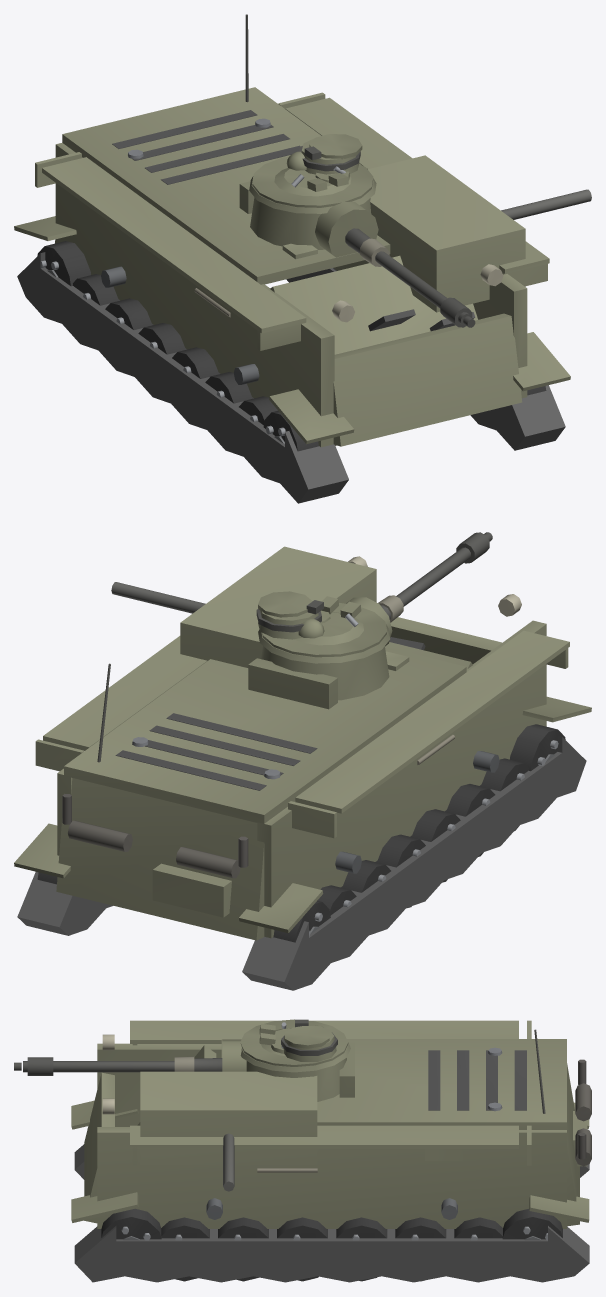
File: m3lee.glb
The picture shows the model from 3 angles, top to bottom: view 1: azimuth 30°, elevation 25°; view 2: azimuth 150°, elevation 25°; view 3: azimuth 270°, elevation 25°; orthographic projection. The views are drawn at different scales.
Parts seen in each view (by area): view 1: hullSide, tracks, hullTop, lowerPlate, glacis, turretRoof, barrel, turretFront, mantlet, wheel7, wheel3, wheel2 (+6 smaller); view 2: hullSide, hullTop, tracks, hullRear, turretRoof, turretRear, turretFront, lowerPlate, barrel, wheel6, glacis, wheel4 (+7 smaller); view 3: hullSide, tracks, hullTop, turretRoof, hullRear, barrel, lowerPlate, wheel14, wheel15, turretFront, wheel12, wheel13 (+7 smaller).
Boxes of the visible parts, <box> form: hullSide: <box>35,92,591,447</box>; tracks: <box>14,216,570,503</box>; hullTop: <box>62,87,390,284</box>; lowerPlate: <box>333,313,522,446</box>; glacis: <box>270,243,477,445</box>; turretRoof: <box>252,134,373,207</box>; barrel: <box>345,228,475,327</box>; turretFront: <box>250,197,371,249</box>; mantlet: <box>315,199,378,257</box>; wheel7: <box>37,241,90,286</box>; wheel3: <box>172,347,220,378</box>; wheel2: <box>138,323,186,354</box>; hullSide: <box>35,546,569,938</box>; hullTop: <box>64,647,466,824</box>; tracks: <box>14,696,591,990</box>; hullRear: <box>56,663,266,940</box>; turretRoof: <box>256,591,386,657</box>; turretRear: <box>248,658,337,709</box>; turretFront: <box>261,646,389,700</box>; lowerPlate: <box>390,617,501,664</box>; barrel: <box>378,532,492,622</box>; wheel6: <box>510,724,565,771</box>; glacis: <box>385,637,472,670</box>; wheel4: <box>445,784,495,856</box>; hullSide: <box>97,1020,566,1228</box>; tracks: <box>71,1100,589,1282</box>; hullTop: <box>221,1039,566,1129</box>; turretRoof: <box>240,1019,348,1066</box>; hullRear: <box>534,1029,591,1226</box>; barrel: <box>14,1056,222,1075</box>; lowerPlate: <box>84,1072,114,1223</box>; wheel14: <box>101,1208,161,1240</box>; wheel15: <box>502,1209,562,1240</box>; turretFront: <box>246,1058,346,1101</box>; wheel12: <box>218,1217,268,1281</box>; wheel13: <box>161,1217,209,1281</box>.
Size of the model in its own units: 5.16 by 3.34 by 7.63.
